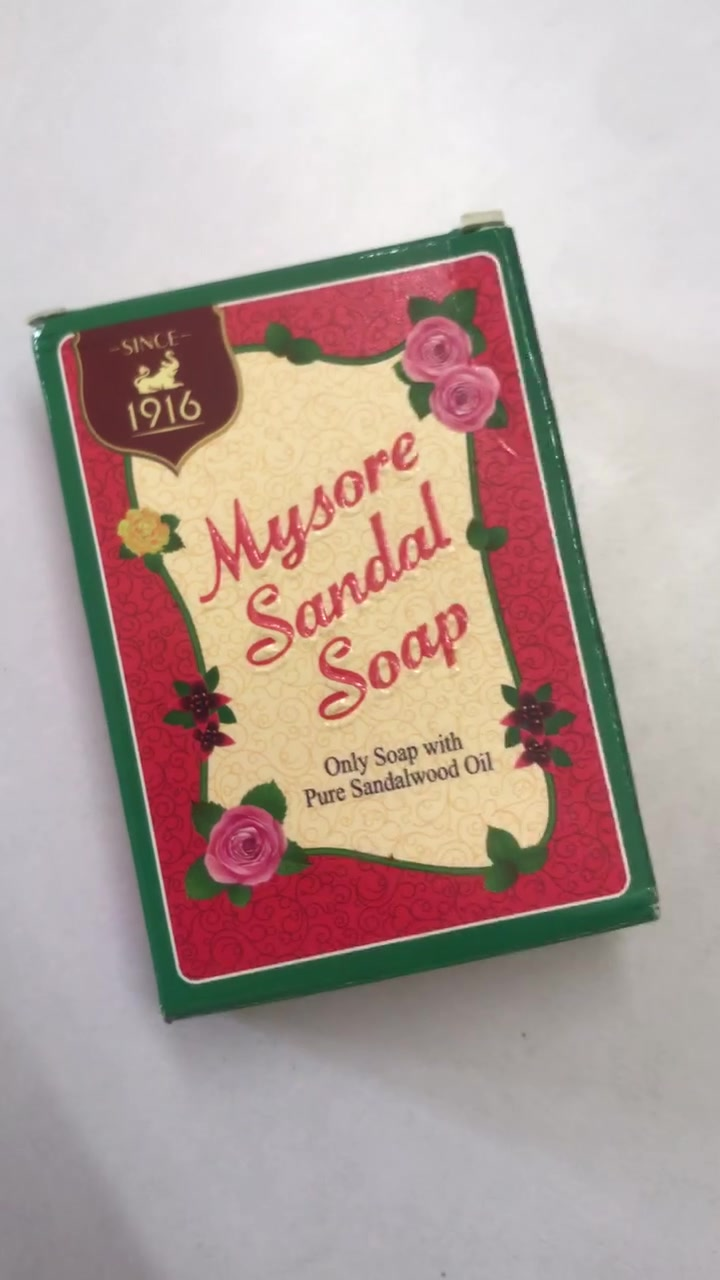mysore sandal soap: (33, 221, 655, 1020)
